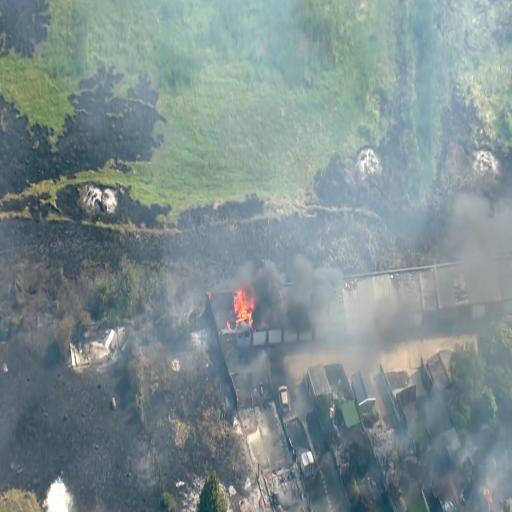fire: (229, 292, 259, 332)
smoke: (450, 196, 512, 298), (250, 262, 324, 324)
